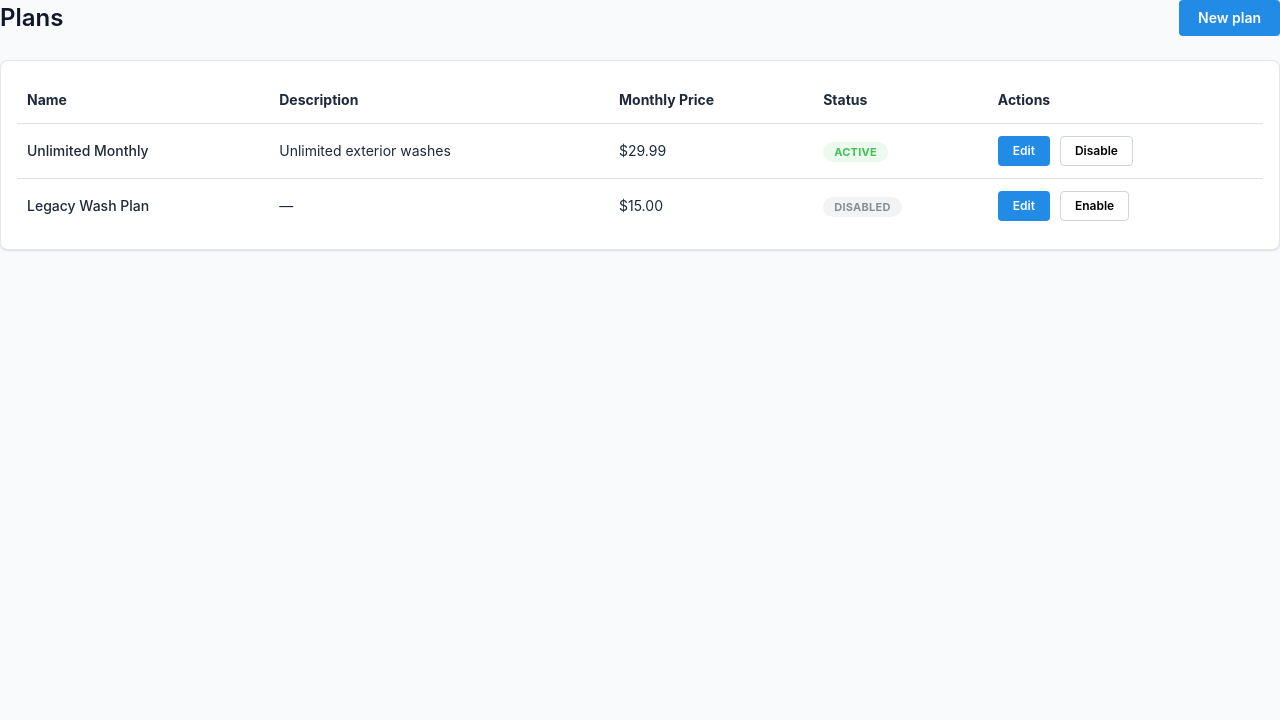
it: PlansEditor › editing a plan › can edit a disabled plan
The width and height of the screenshot is (1280, 720).
Expected: the text "Unlimited Monthly" is shown, [17,123,269,178]
Click the button with aria-label "Edit Legacy Wash Plan" at (1024, 206), box [998,191,1050,221]
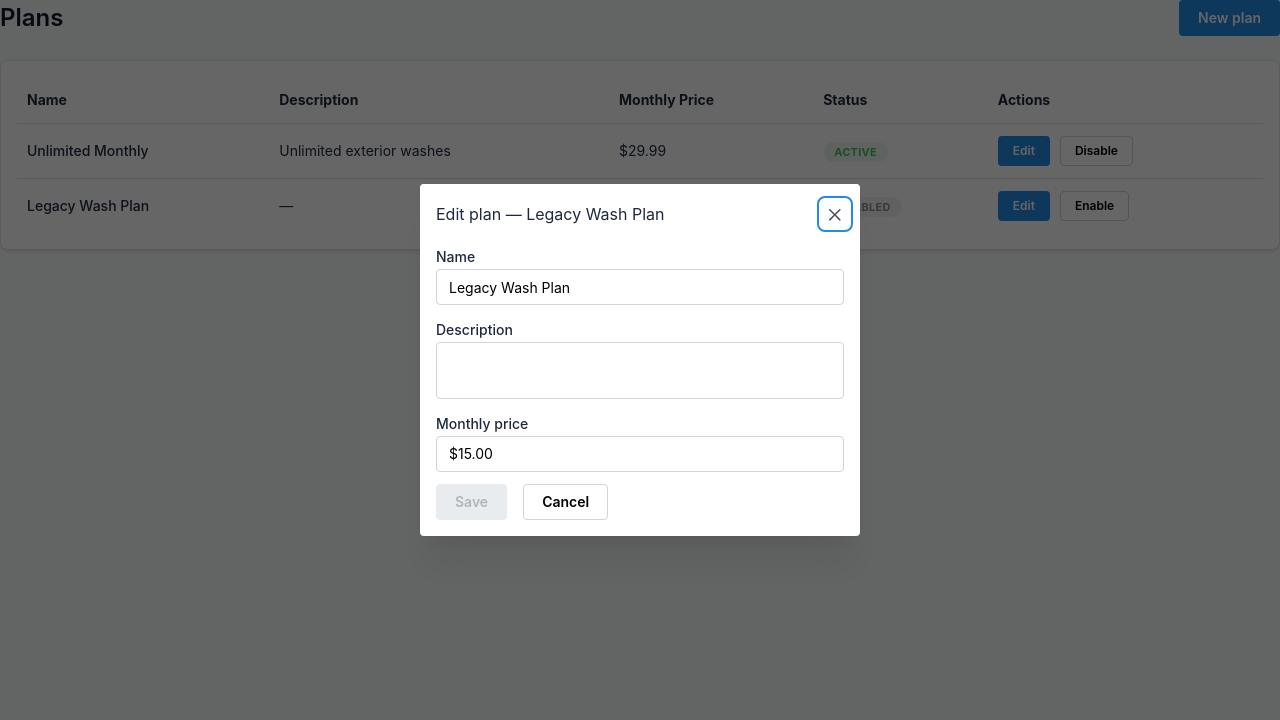
Expected: the field labelled "Name" holds "Legacy Wash Plan", [436,269,844,305]
